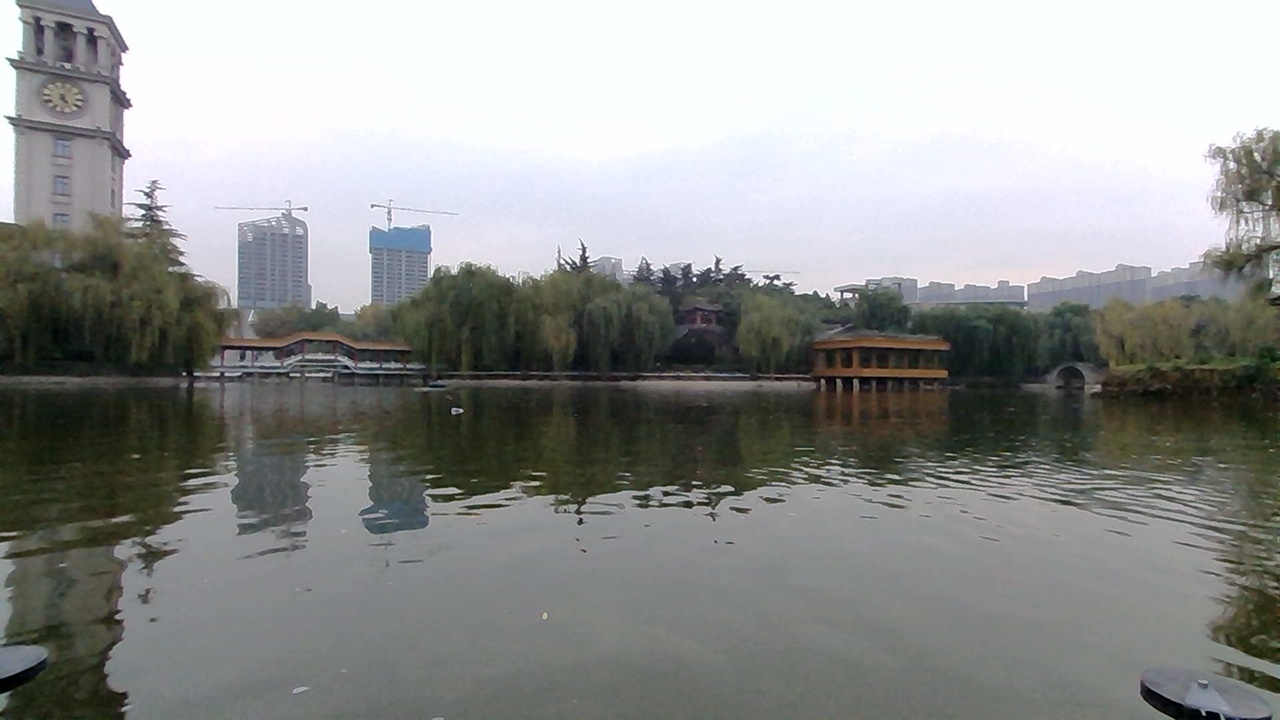bottle: (430, 396, 475, 420)
